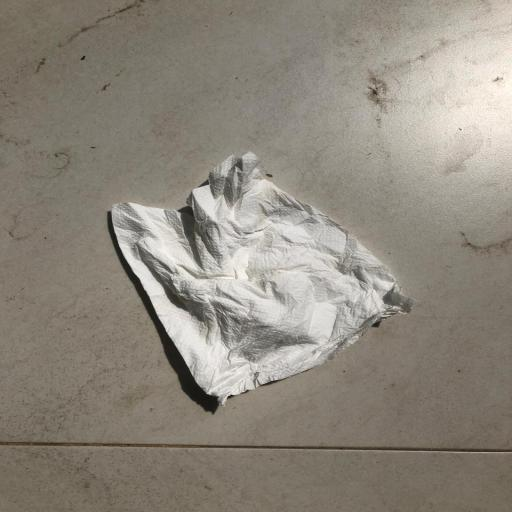waste: (90, 145, 424, 407)
